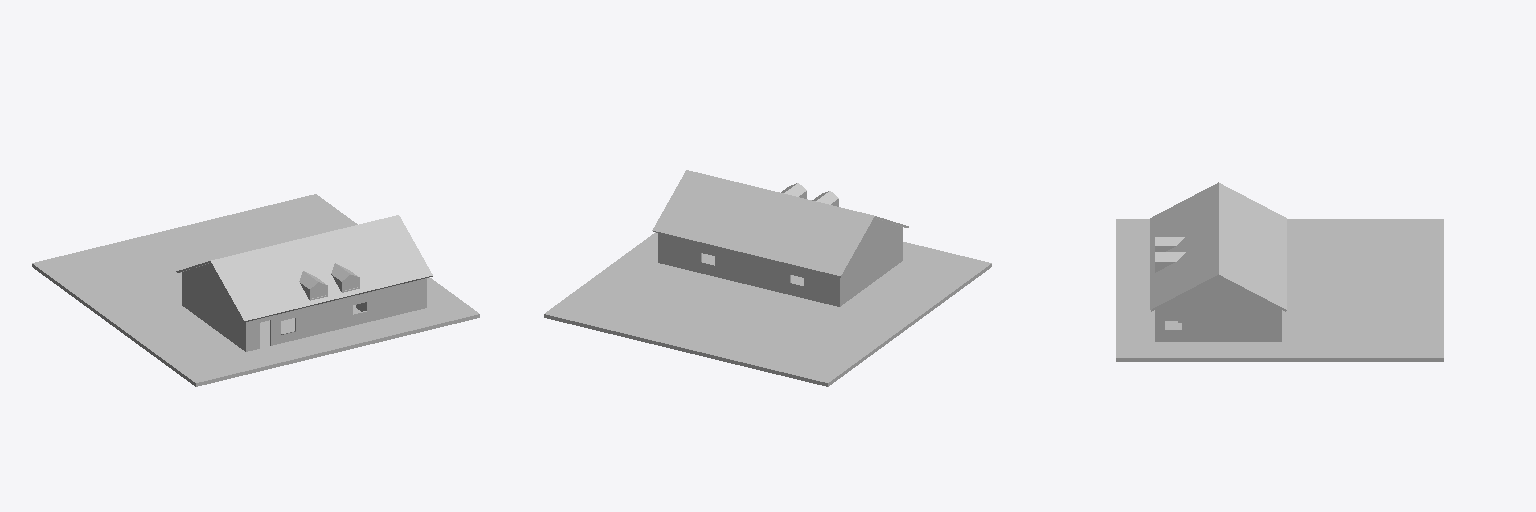
The model's file is b18801d2-74ac-41ee-846e-adb1af50ab5d.obj.
The picture shows the model from 3 angles: view 1: azimuth 30°, elevation 25°; view 2: azimuth 150°, elevation 25°; view 3: azimuth 270°, elevation 25°; orthographic projection.
Visible parts, largest first — view 1: Mesh1 Model, Mesh2 Model; view 2: Mesh1 Model; view 3: Mesh1 Model.
Part boxes in pixels (x1,y1,x2,y2): Mesh1 Model: (32, 194, 479, 386); Mesh2 Model: (331, 263, 359, 292); Mesh1 Model: (544, 170, 991, 386); Mesh1 Model: (1116, 182, 1443, 361).
Size of the model in its own units: 24.35 by 5.95 by 24.35.